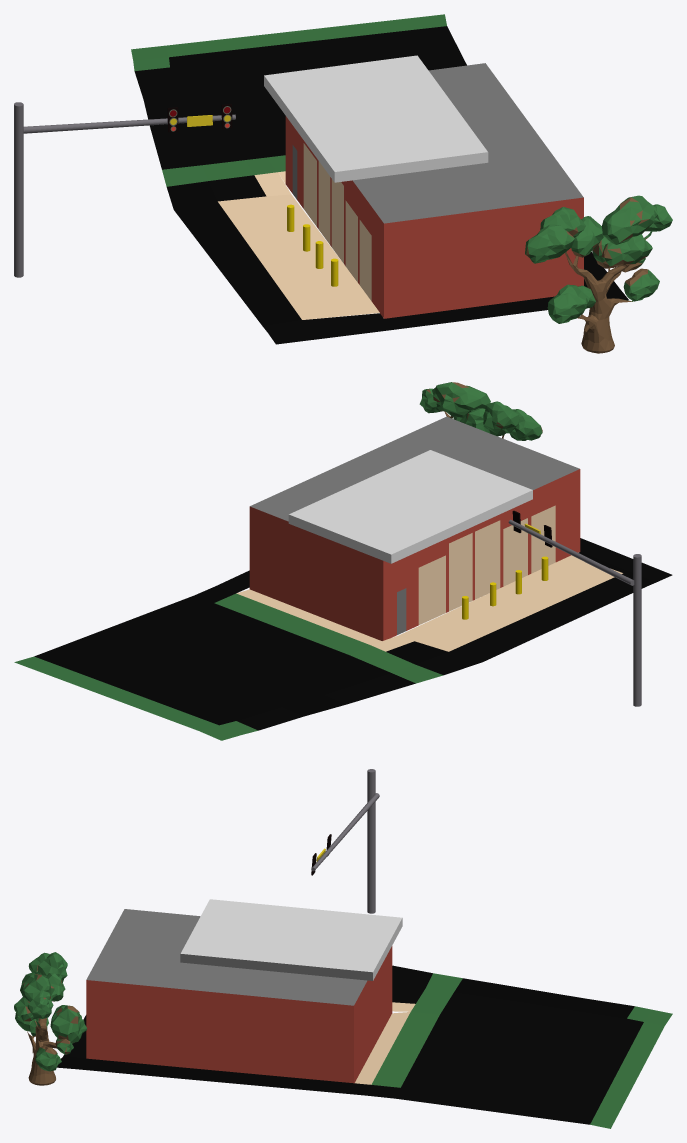
The model's file is ufirehouse.glb.
3 renders of one model, top to bottom at view 1: azimuth 30°, elevation 25°; view 2: azimuth 150°, elevation 25°; view 3: azimuth 270°, elevation 25°, orthographic. The views are drawn at different scales.
Visible parts, largest first — view 1: Cylinder.003, tree_Cube.004; view 2: Cylinder.003, tree_Cube.004; view 3: Cylinder.003, tree_Cube.004.
Part boxes in pixels (box(x1,y1,x2,y2)): Cylinder.003: box(14, 14, 628, 344); tree_Cube.004: box(525, 195, 672, 353); Cylinder.003: box(14, 416, 672, 740); tree_Cube.004: box(419, 382, 542, 440); Cylinder.003: box(57, 769, 672, 1128); tree_Cube.004: box(14, 952, 87, 1085).
Size of the model in its own units: 0.1639 by 0.0522 by 0.1971.
